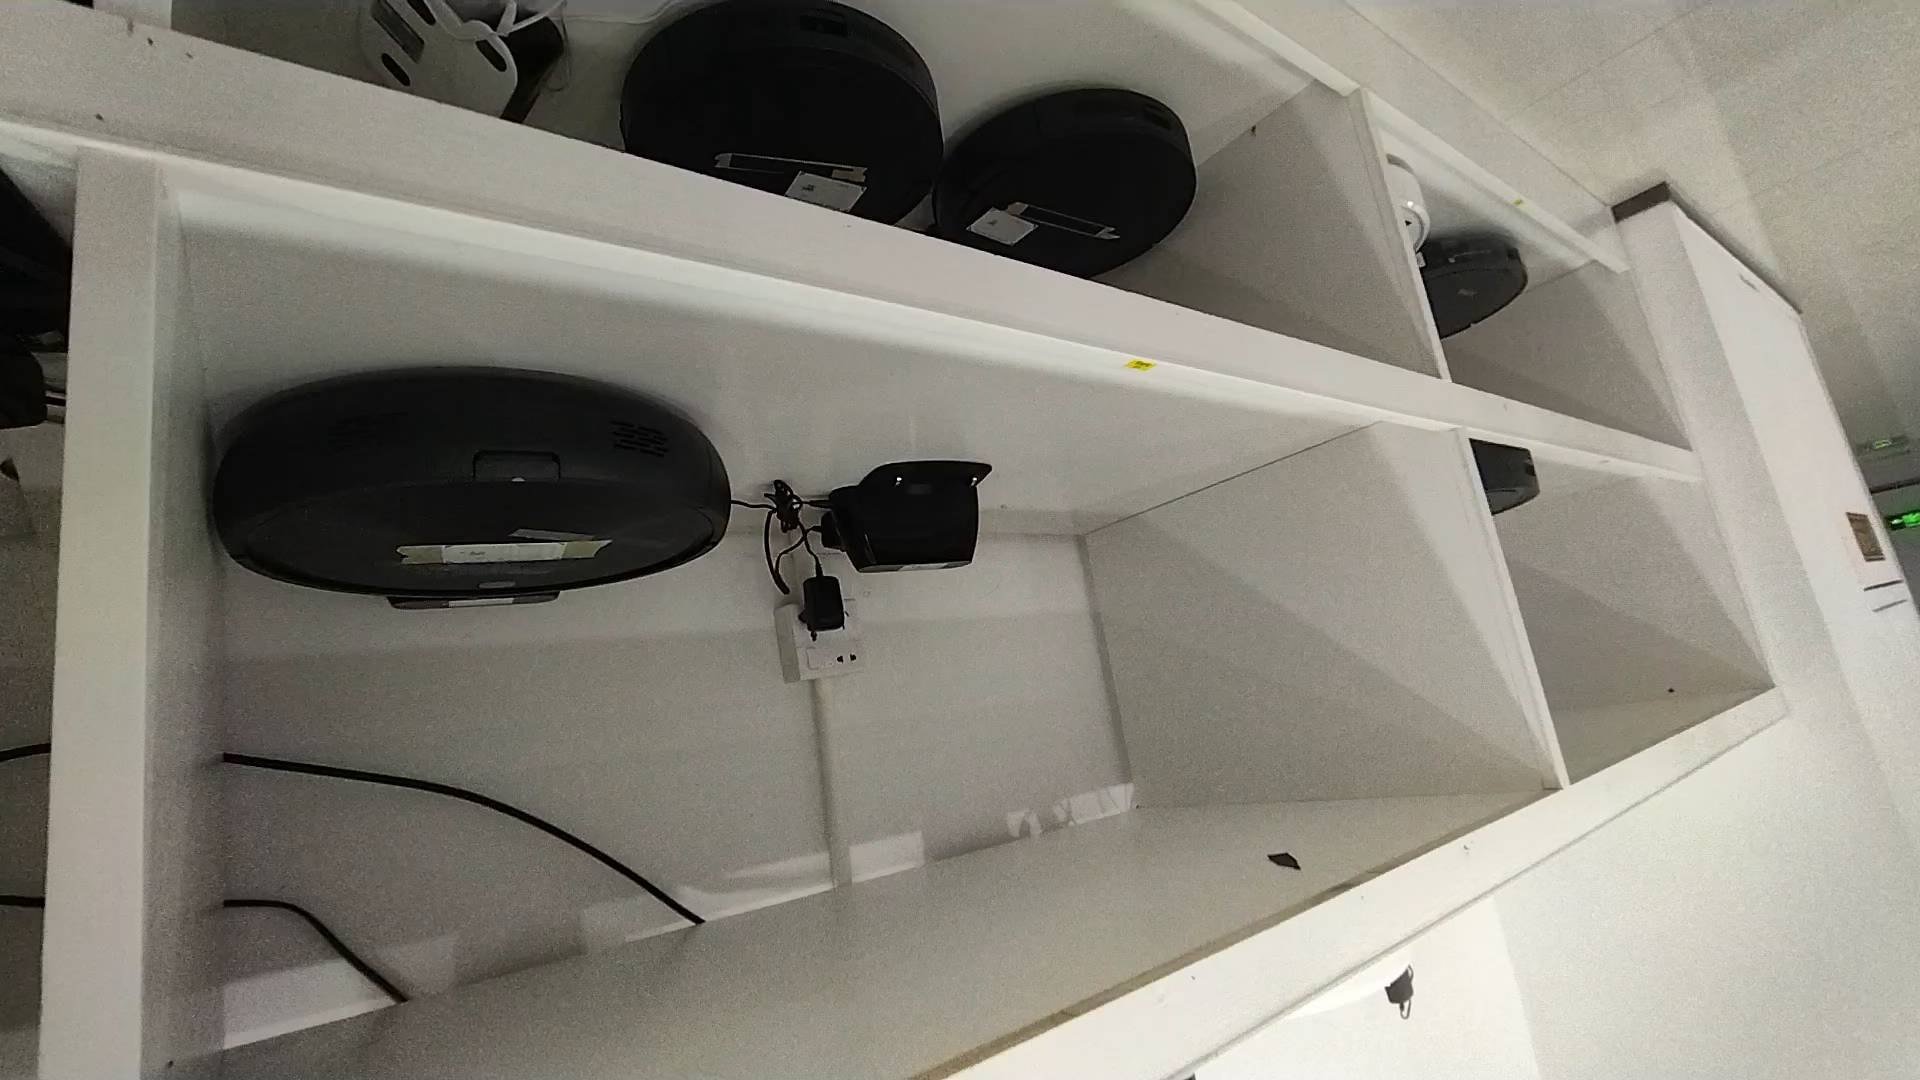recharge seat: (827, 458, 996, 576)
